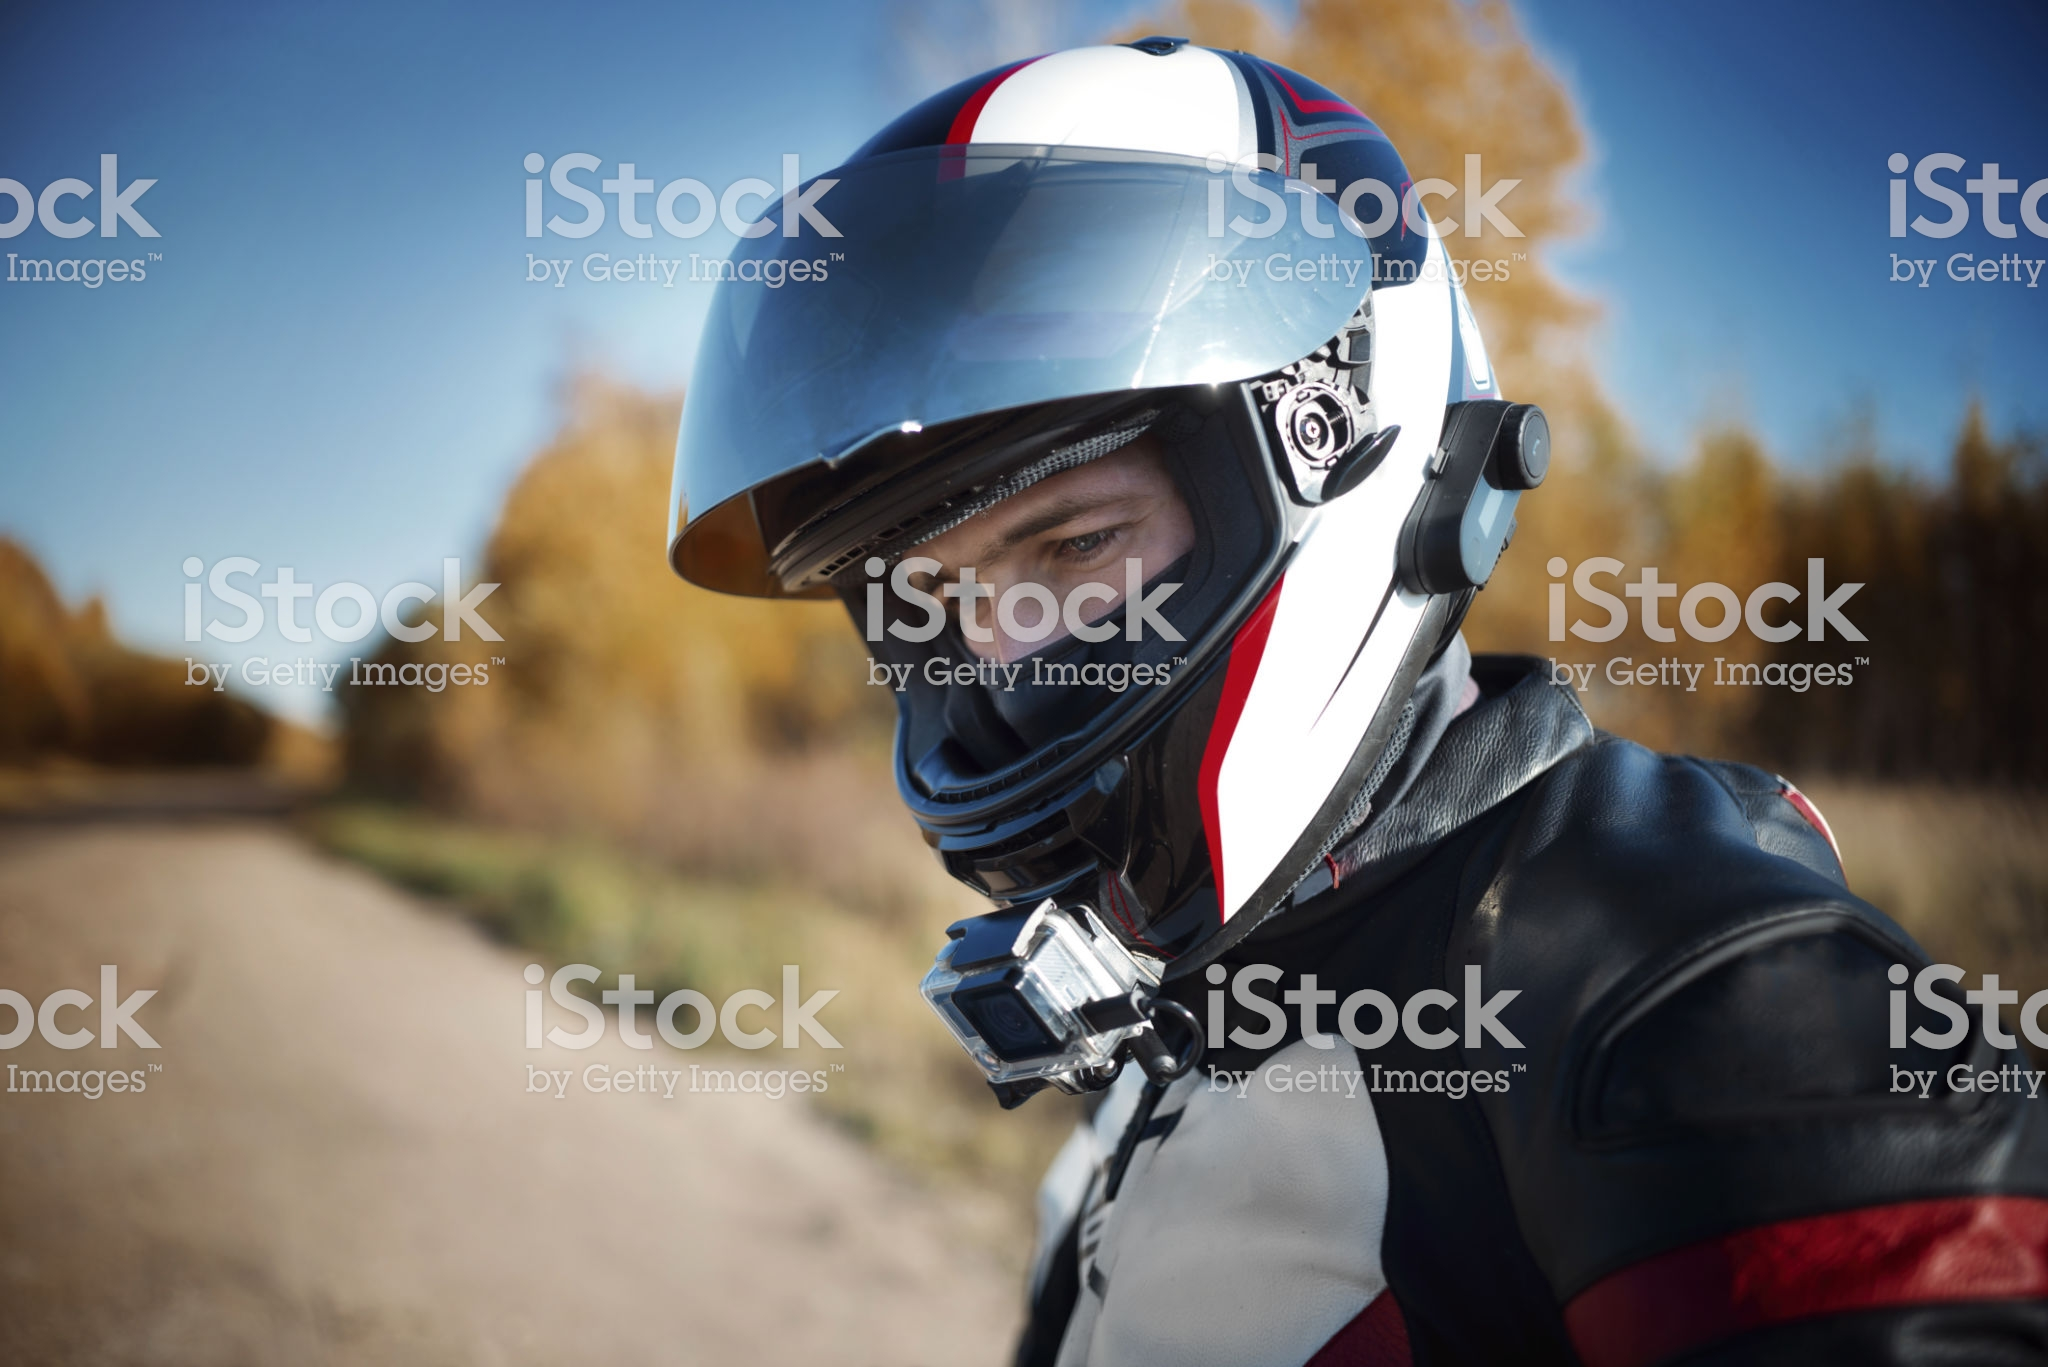helmet: (717, 40, 1461, 960)
